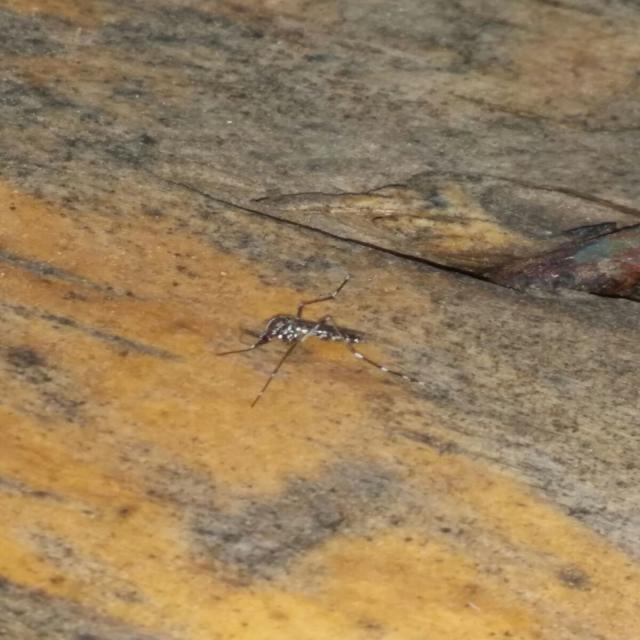albopictus: (214, 253, 440, 409)
